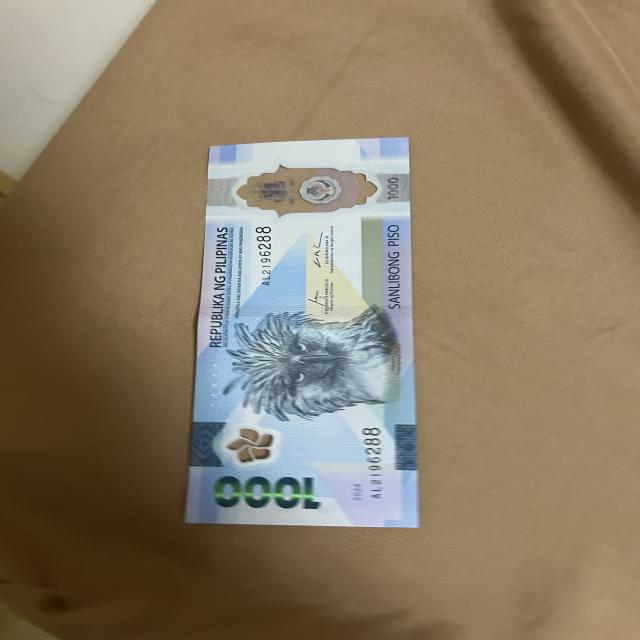clear_window: (232, 166, 378, 214)
eagle: (222, 312, 404, 406)
sampaguita: (222, 429, 274, 468)
